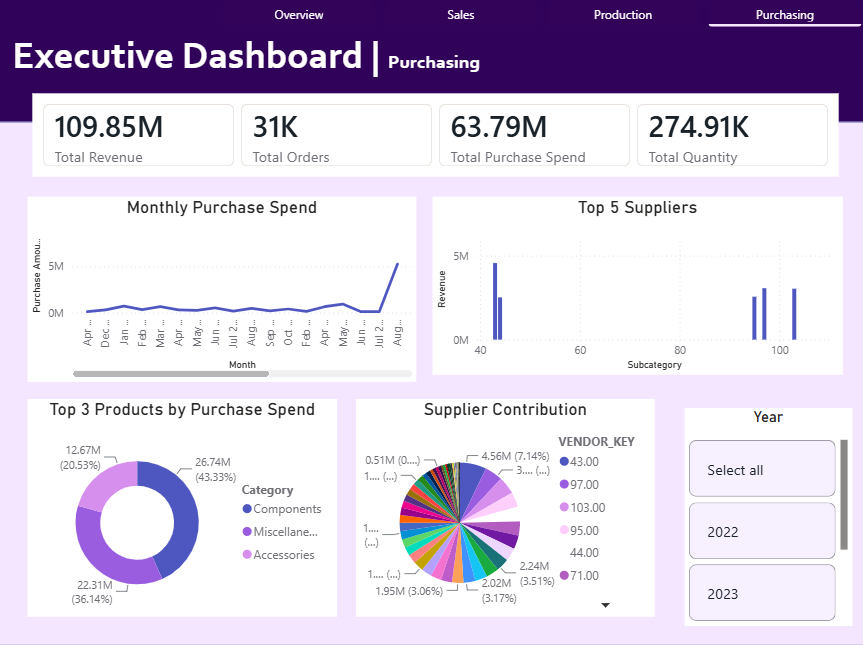

The page's visual inventory and layout, read from the dashboard file:
{"tool":"powerbi","page":{"name":"Purchasing","canvas":[960,720],"ordinal":3},"visuals":[{"type":"advancedSlicerVisual","title":"Year","fields":{"Values":["FACT_PURCHASE.year"]},"box":[752,446,186,242],"z":0},{"type":"textbox","box":[10,34,552,68],"z":1},{"type":"shape","box":[0,137.5,1280,582.5],"z":2},{"type":"cardVisual","fields":{"Data":["FACT_SALES.Total Revenue","FACT_SALES.Total Orders","FACT_PURCHASE.Total Purchase Spend","FACT_SALES.Total Quantity"]},"box":[31.7,101.7,906.7,103.3],"z":3},{"type":"lineChart","title":"Monthly Purchase Spend","fields":{"Category":["FACT_PURCHASE.month_year"],"Y":["FACT_PURCHASE.Total Purchase Spend"]},"box":[32,222,432,206],"z":4},{"type":"clusteredColumnChart","title":"Top 5 Suppliers","fields":{"Category":["FACT_PURCHASE.VENDOR_KEY"],"Y":["FACT_PURCHASE.Total Purchase Spend"]},"box":[482,222,456,198],"z":5},{"type":"donutChart","title":"Top 3 Products by Purchase Spend","fields":{"Category":["DIM_PRODUCT.CATEGORY_NAME"],"Y":["FACT_PURCHASE.Total Purchase Spend"]},"box":[32,446,344,242],"z":6},{"type":"pieChart","title":"Supplier Contribution","fields":{"Category":["FACT_PURCHASE.VENDOR_KEY"],"Y":["FACT_PURCHASE.Total Purchase Spend"]},"box":[396,446,332,242],"z":7},{"type":"advancedSlicerVisual","title":"Year","fields":{"Values":["FACT_PURCHASE.year"]},"box":[762,456,186,242],"z":8},{"type":"pageNavigator","box":[248.3,0,711.7,33.3],"z":9}]}

Visuals, with their boxes in screenshot pixels (x1, y1, x2, y2), scaled from the page's 960x720 canvas onto the 863x645 screenshot:
"Year" advancedSlicerVisual: Rect(676, 400, 843, 616)
textbox: Rect(9, 30, 505, 91)
shape: Rect(0, 123, 862, 644)
cardVisual - FACT_SALES.Total Revenue x FACT_SALES.Total Orders: Rect(28, 91, 844, 184)
"Monthly Purchase Spend" lineChart: Rect(29, 199, 417, 383)
"Top 5 Suppliers" clusteredColumnChart: Rect(433, 199, 843, 376)
"Top 3 Products by Purchase Spend" donutChart: Rect(29, 400, 338, 616)
"Supplier Contribution" pieChart: Rect(356, 400, 654, 616)
"Year" advancedSlicerVisual: Rect(685, 408, 852, 625)
pageNavigator: Rect(223, 0, 862, 30)
